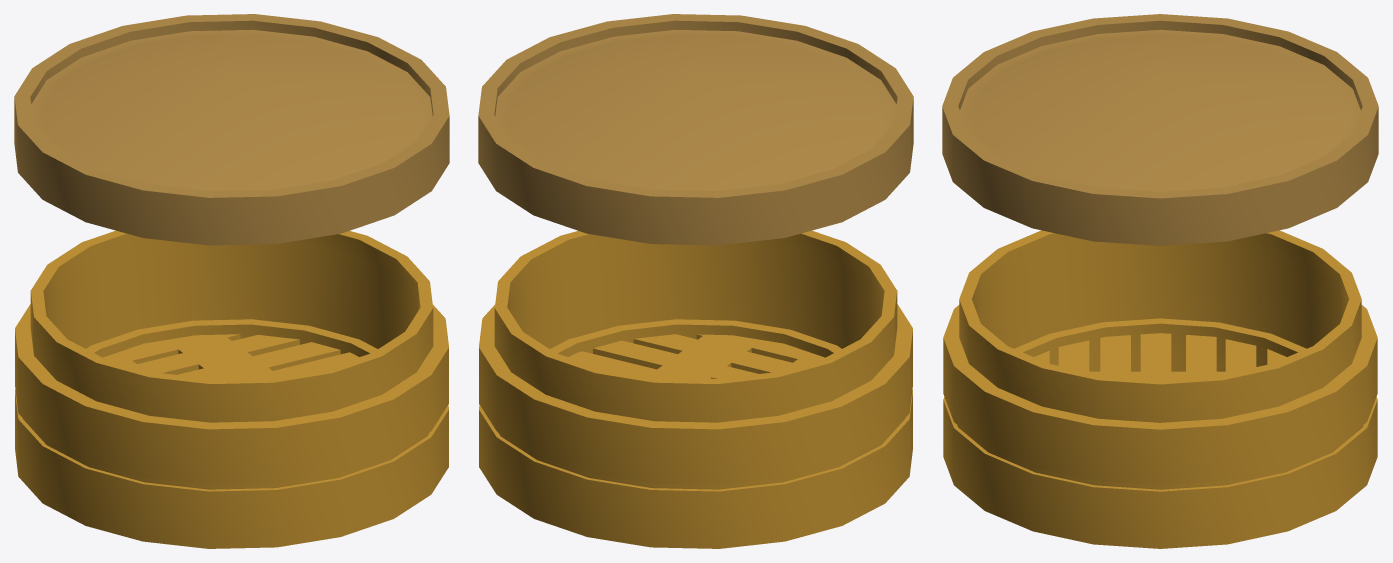
Rendered from zhenglong.fbx.
3 renders of one model, left to right at view 1: azimuth 30°, elevation 25°; view 2: azimuth 150°, elevation 25°; view 3: azimuth 270°, elevation 25°, orthographic.
Parts seen in each view (by area): view 1: pCube12_1; view 2: pCube12_1; view 3: pCube12_1.
Part boxes in pixels (left/top/right/bottom): pCube12_1: left=14, top=14, right=449, bottom=548; pCube12_1: left=478, top=14, right=913, bottom=548; pCube12_1: left=942, top=14, right=1378, bottom=548.
Size of the model in its own units: 2.97 by 2.94 by 2.97.
